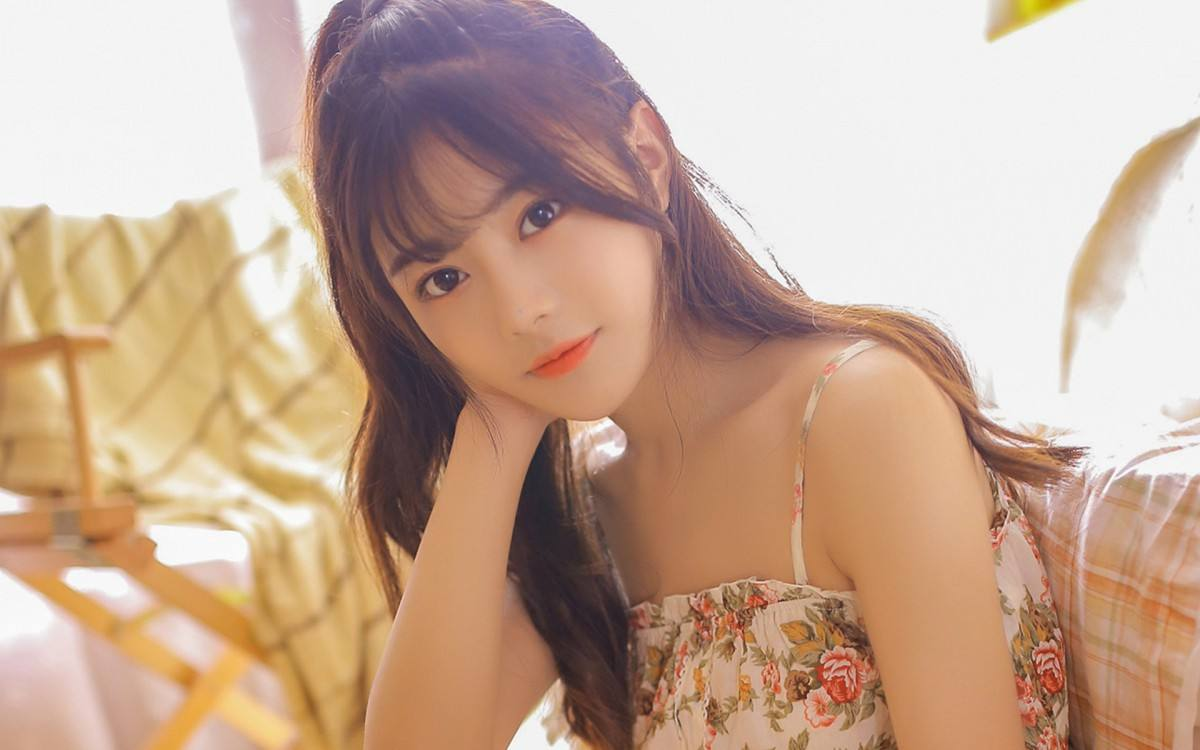person: (246, 32, 1016, 750)
